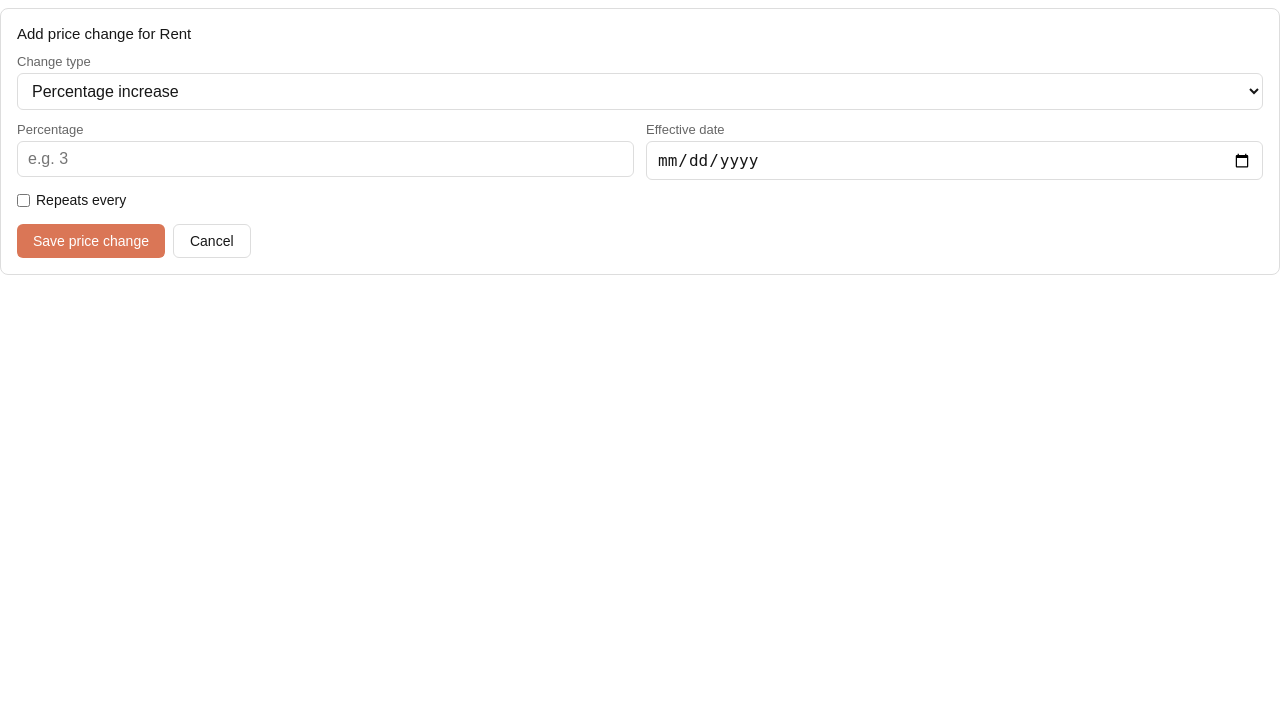
EscalationForm › cancels submit when large increase confirmation is declined
Type "60" into the number field labelled "Percentage" at x=326, y=159, box left=17, top=141, right=634, bottom=177
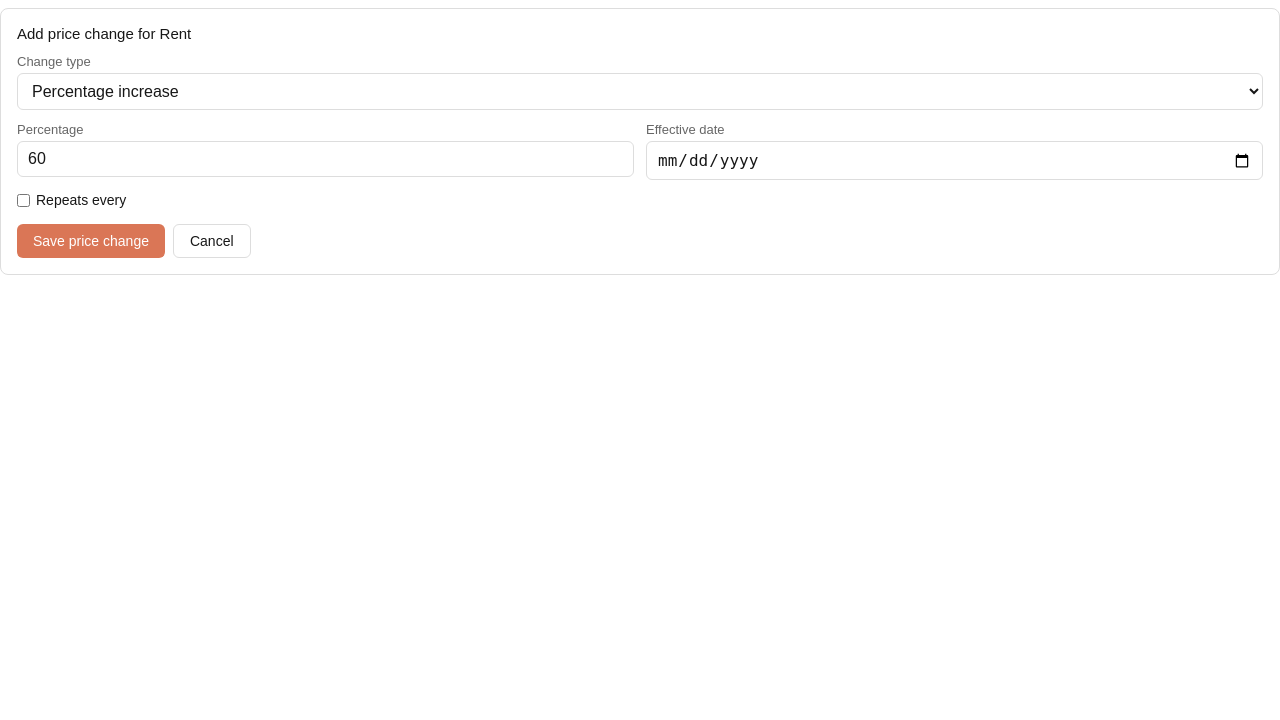
Type "2027-07-01" into the date field labelled "Effective date" at x=954, y=160, box left=646, top=141, right=1263, bottom=180
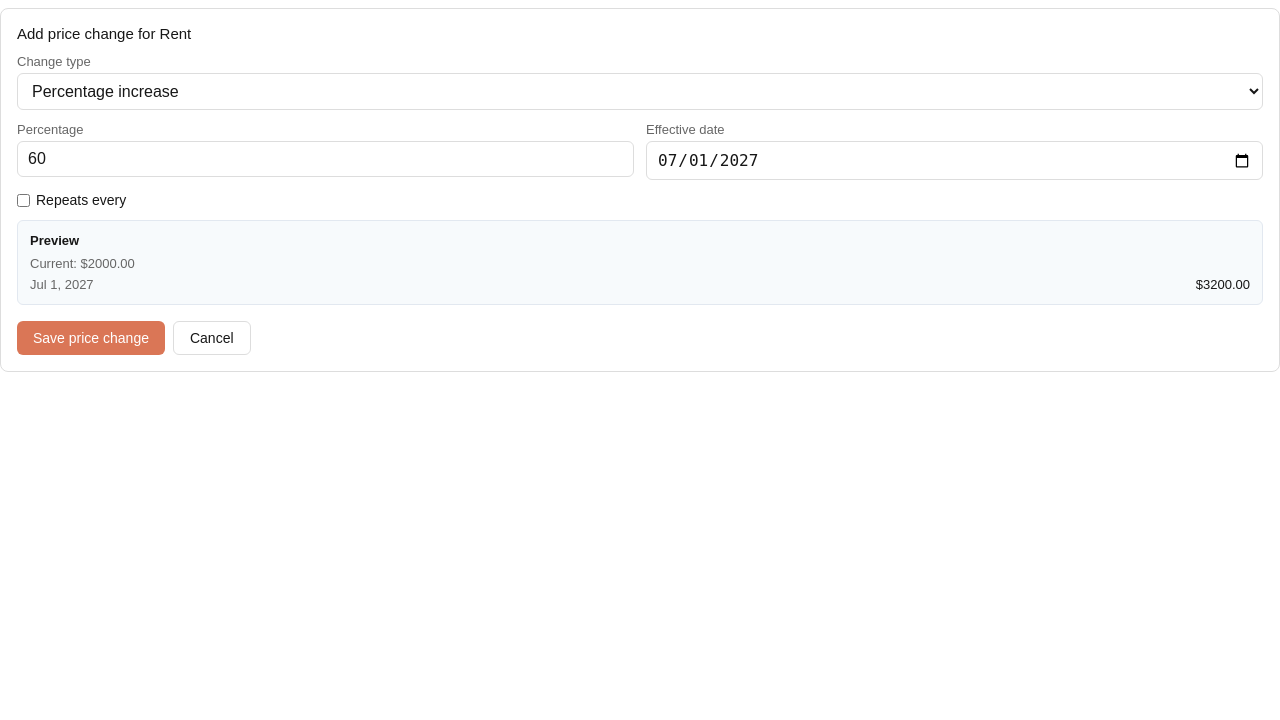
Click the button "Save price change" at x=91, y=338, box left=17, top=321, right=165, bottom=355
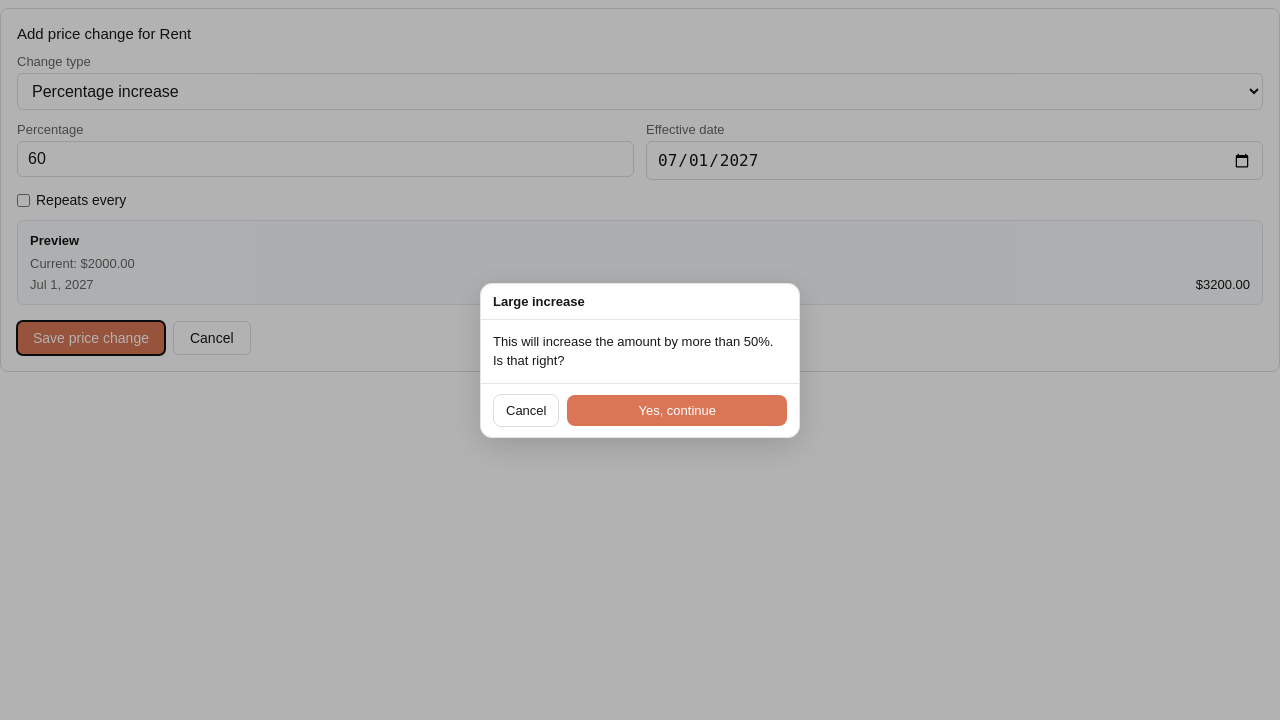
expect the dialog with test id "confirm-dialog" is shown: met, box left=480, top=282, right=800, bottom=438
Click the button with test id "confirm-dialog-cancel" at x=526, y=410, box left=493, top=394, right=560, bottom=426
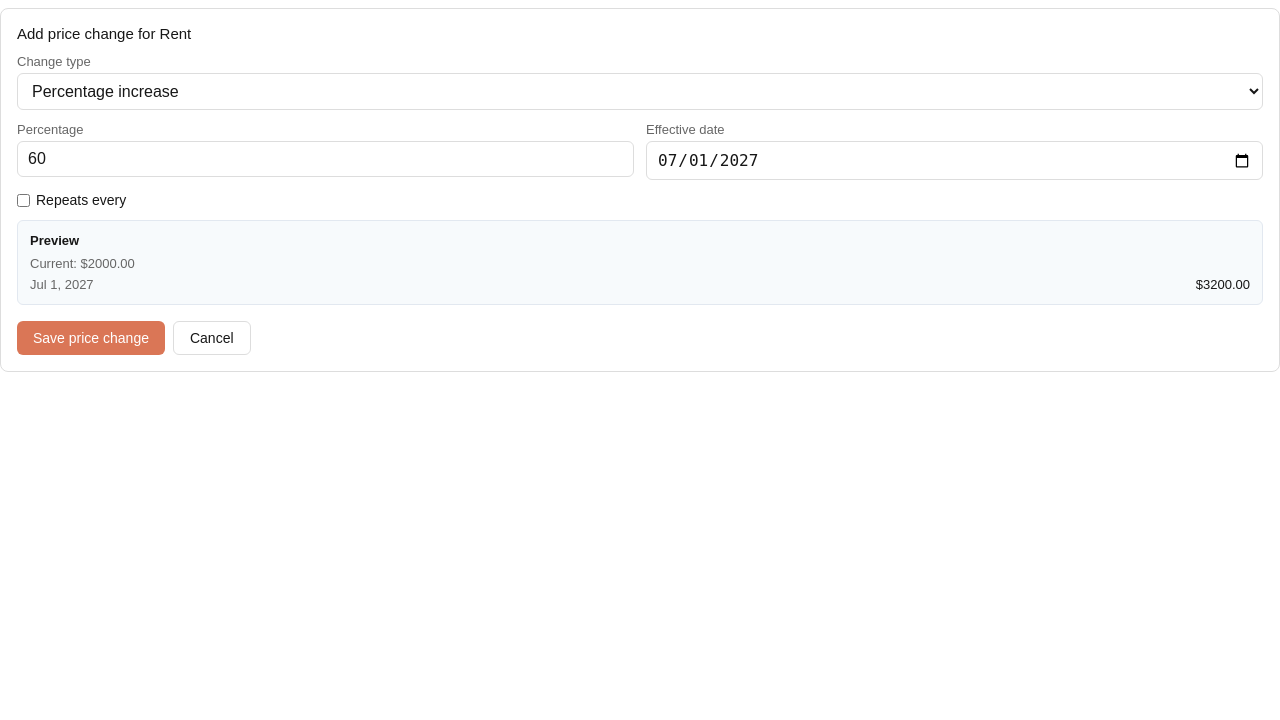
expect the dialog with test id "confirm-dialog" is gone: met
